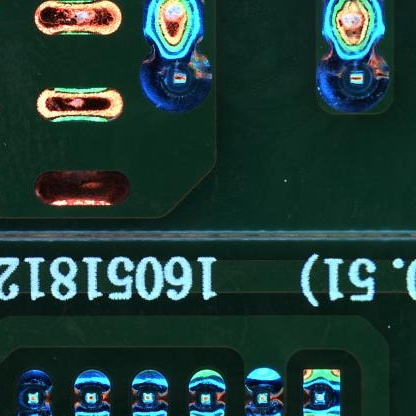spot: (315, 50, 389, 116), (140, 52, 214, 110), (186, 369, 226, 416), (302, 367, 340, 416), (129, 371, 170, 416), (244, 367, 281, 416), (73, 371, 111, 416), (18, 368, 53, 416)
